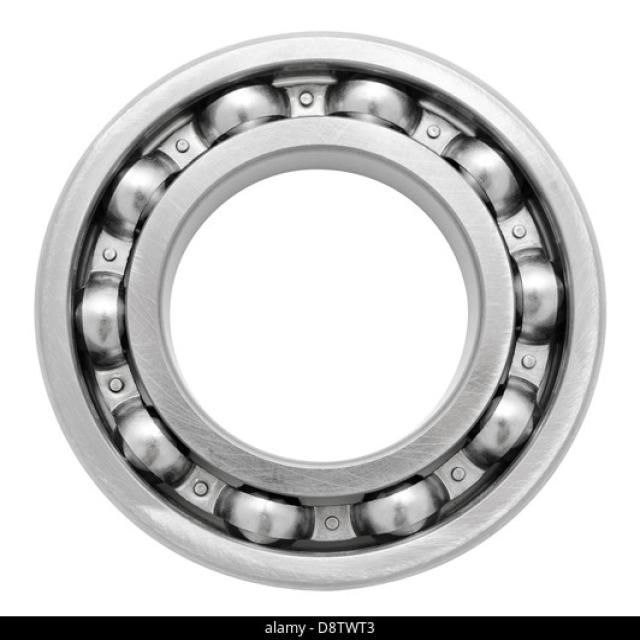Bearing: (28, 30, 609, 592)
